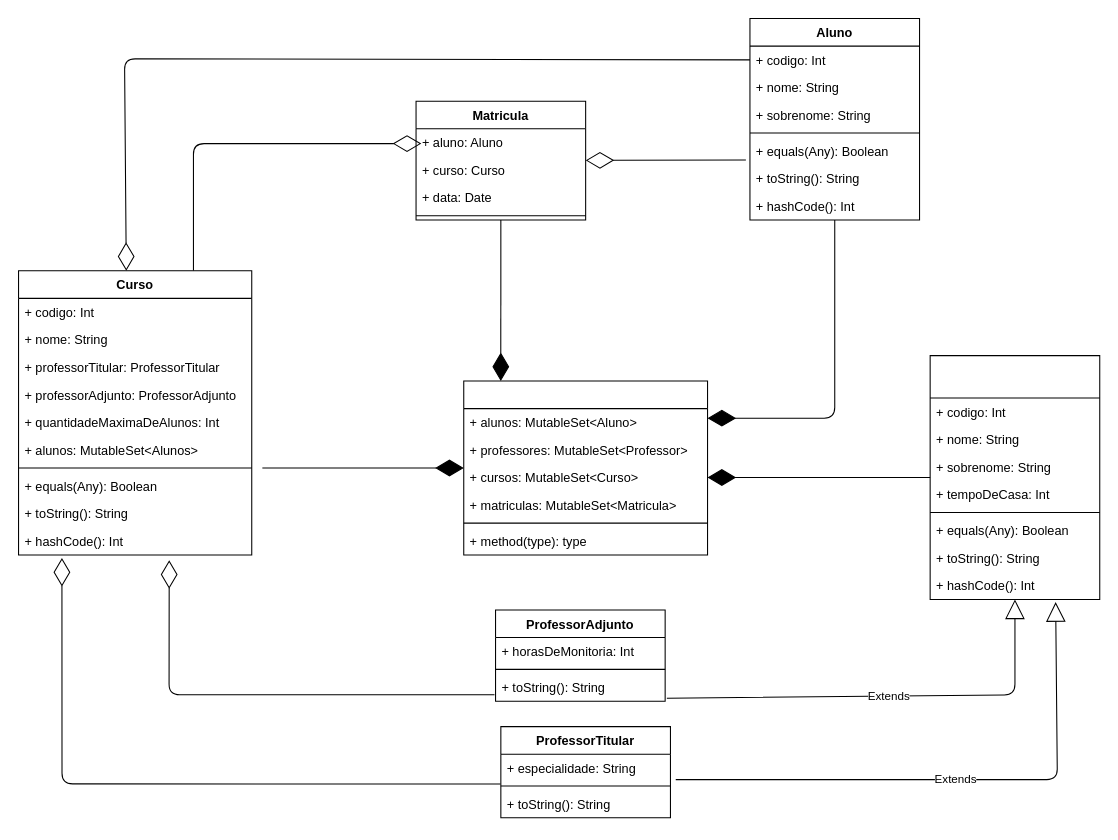
This 1118x840 diagram has some shape labels left out. Each missing label, with the box of its shape:
Abstract Professor: (929, 355, 1100, 599)
DigitalHouseManager: (463, 380, 708, 555)
